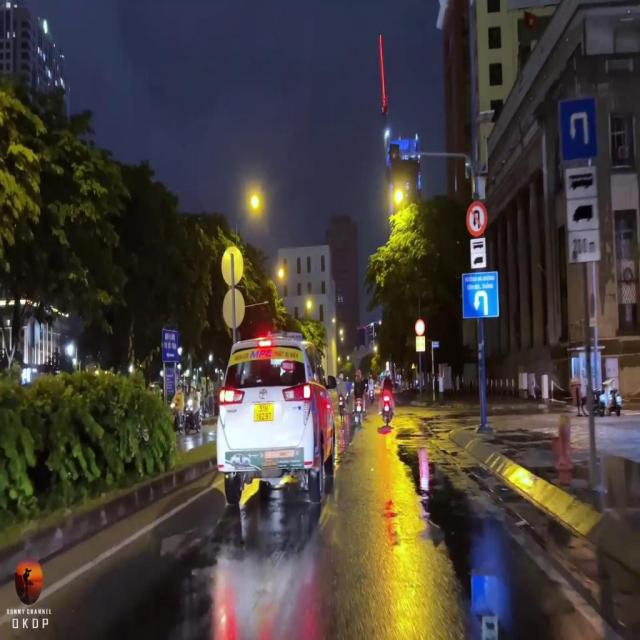cam_quay_dau_xe: (465, 201, 488, 238)
cho_quay_xe: (558, 99, 598, 161)
khac: (462, 274, 499, 318), (566, 167, 598, 201), (566, 198, 598, 232), (568, 231, 600, 265), (470, 253, 486, 269), (471, 239, 486, 253)
